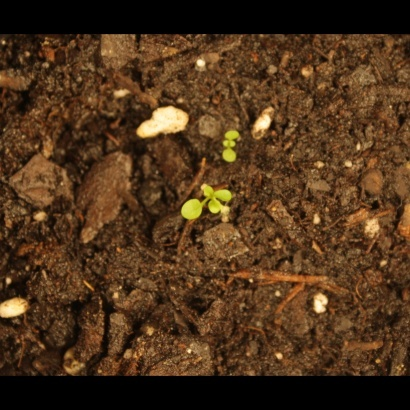leaf: (176, 197, 205, 224), (211, 182, 235, 205), (218, 121, 241, 144), (219, 146, 242, 169), (206, 197, 229, 220)
